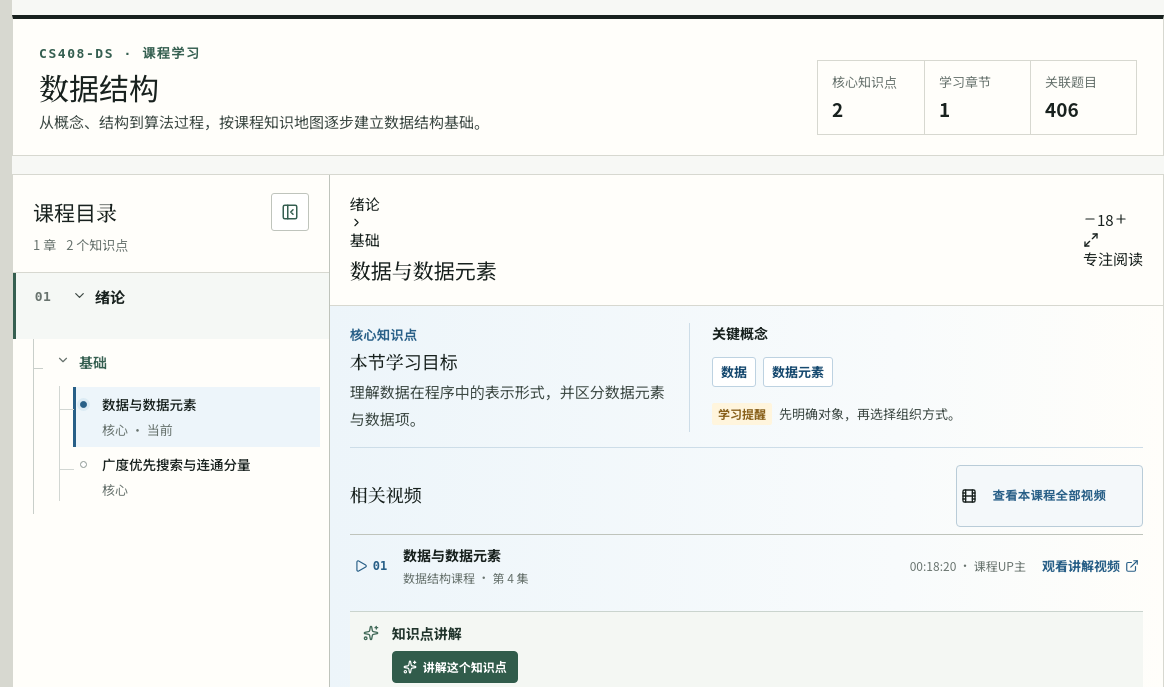
DataStructuresPage › ignores a delayed save failure for a knowledge point that has already been left
Check: the heading "本节学习目标" is shown, box [350, 348, 458, 374]
Click the button "广度优先搜索与连通分量 核心". click: (196, 477)
box: [73, 447, 320, 507]
(page scrolled)
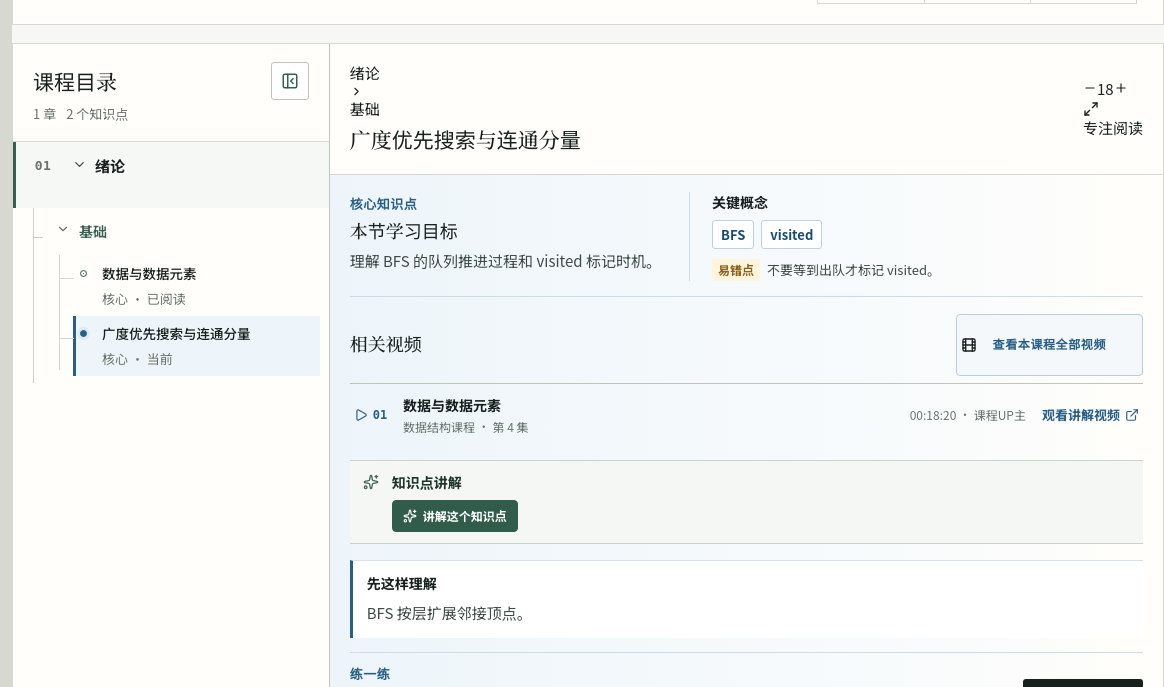
Check: the text "理解 BFS 的队列推进过程和 visited 标记时机。" is shown, box [350, 248, 665, 275]
